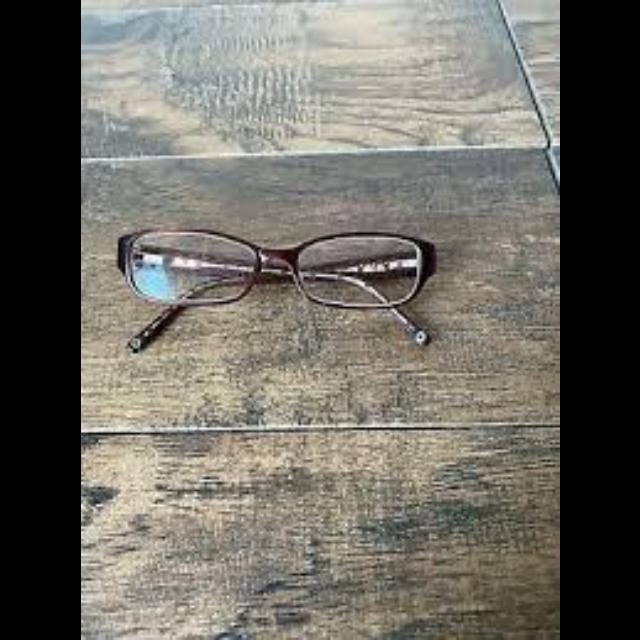glasses: (116, 232, 437, 352)
